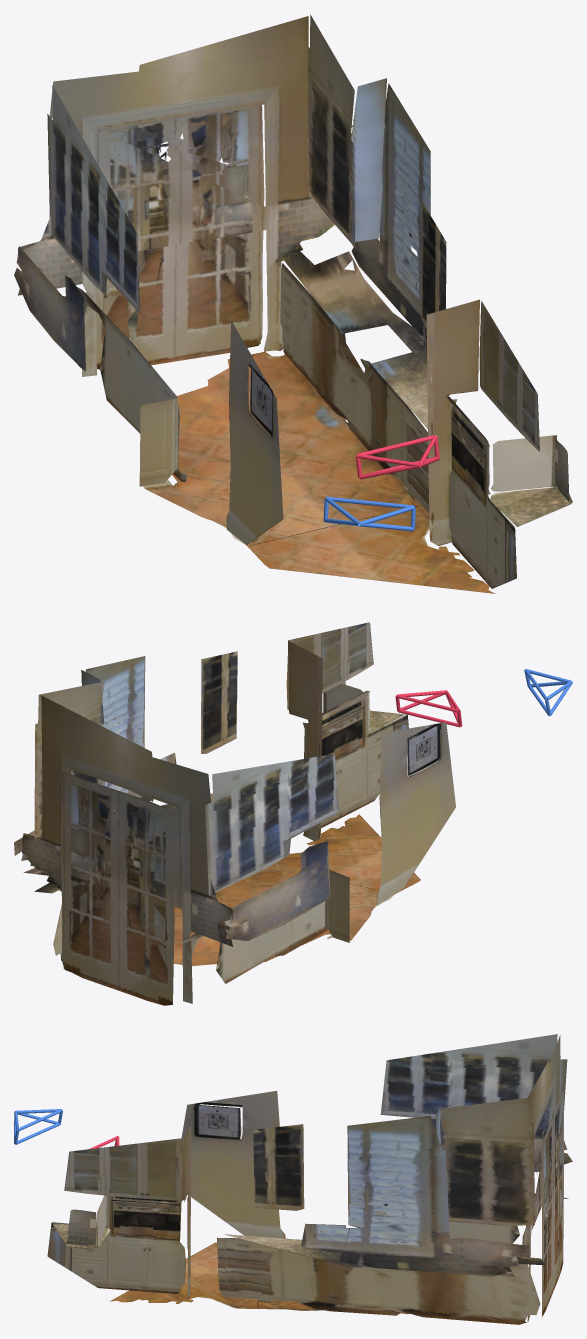
The picture shows the model from 3 angles, top to bottom: view 1: azimuth 30°, elevation 25°; view 2: azimuth 150°, elevation 25°; view 3: azimuth 270°, elevation 25°; orthographic projection. The views are drawn at different scales.
Parts seen in each view (by area): view 1: Node; view 2: Node; view 3: Node.
Part boxes in pixels (x1,y1,x2,y2): Node: [14, 14, 572, 593]; Node: [14, 622, 572, 1005]; Node: [14, 1034, 572, 1324].
Bounding box in the file's own units: 3.57 × 3.34 × 7.
33 materials, 31 textured.
